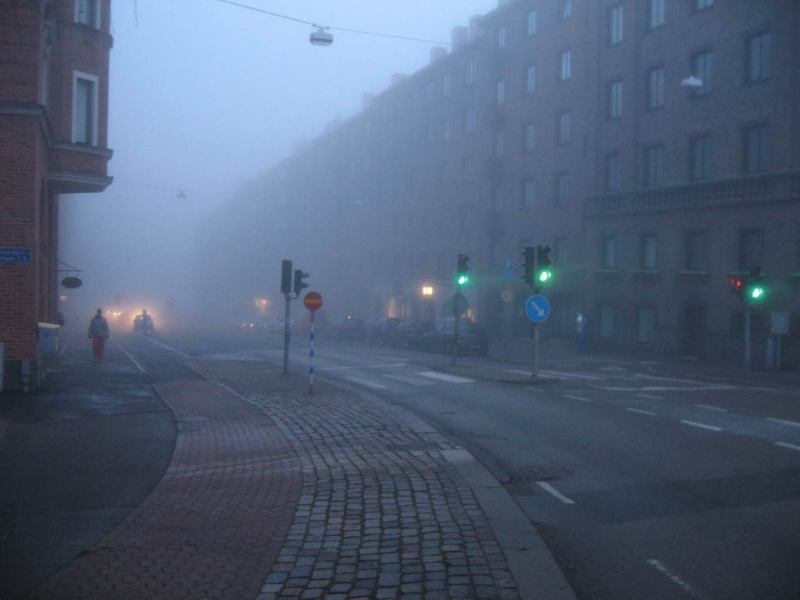green_light: (741, 282, 768, 305), (532, 265, 556, 286), (451, 271, 471, 288)
no_entry: (301, 291, 326, 314)
